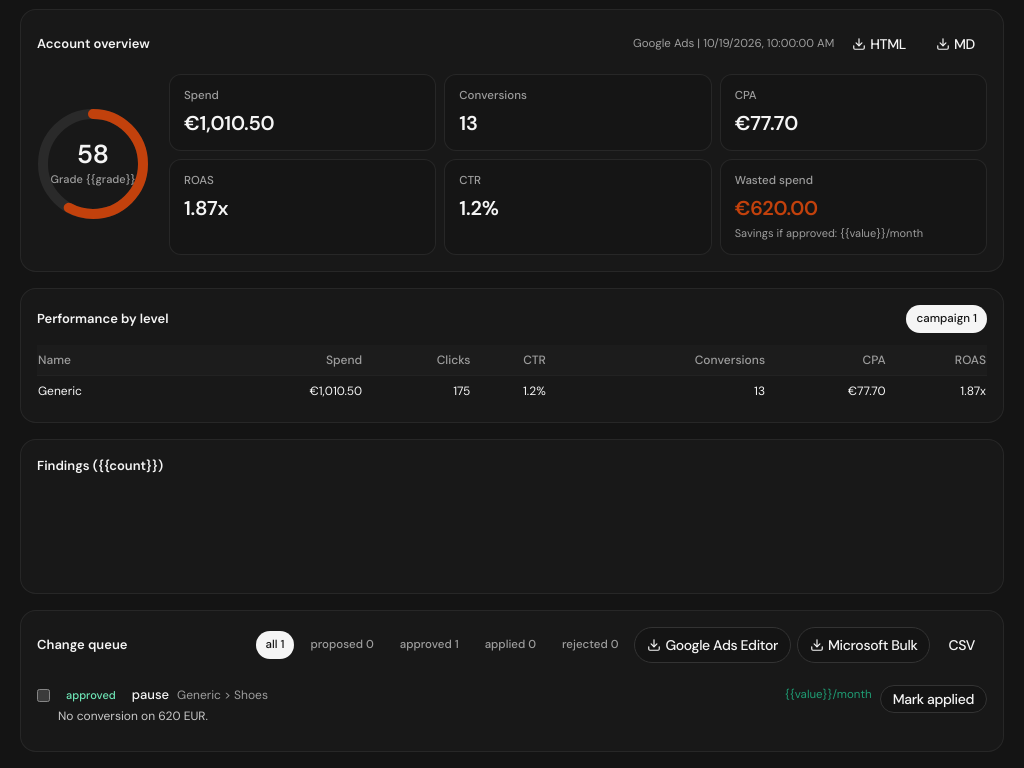
it: AdsDesk › shows KPIs, findings and requires a read-back to mark a change applied
(page scrolled)
Expected: the picture named "Account health: 58" is shown, [37,108,149,220]
Click the button "Mark applied" at {"x": 933, "y": 698}, box [880,684,987,712]
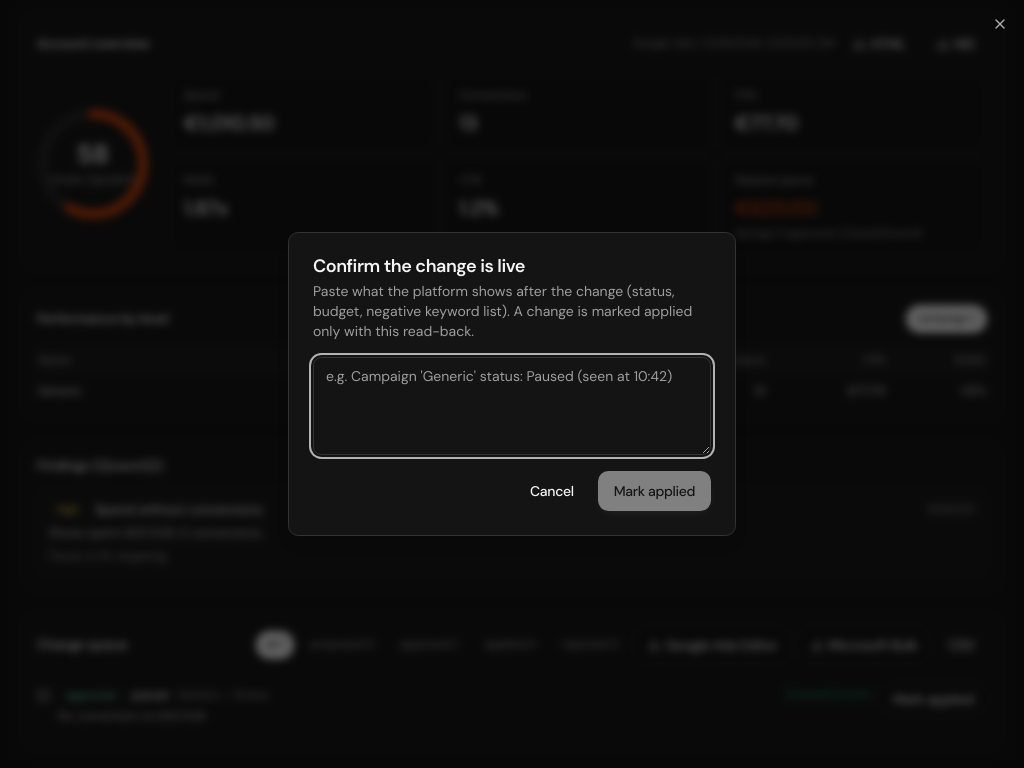
Expected: the button "Mark applied" is disabled, [598,471,711,511]
Type "Paused at 10:42" into the text box with placeholder "e.g. Campaign 'Generic' status: Paused (seen at 10:42)" at {"x": 512, "y": 406}, box [313,357,711,455]
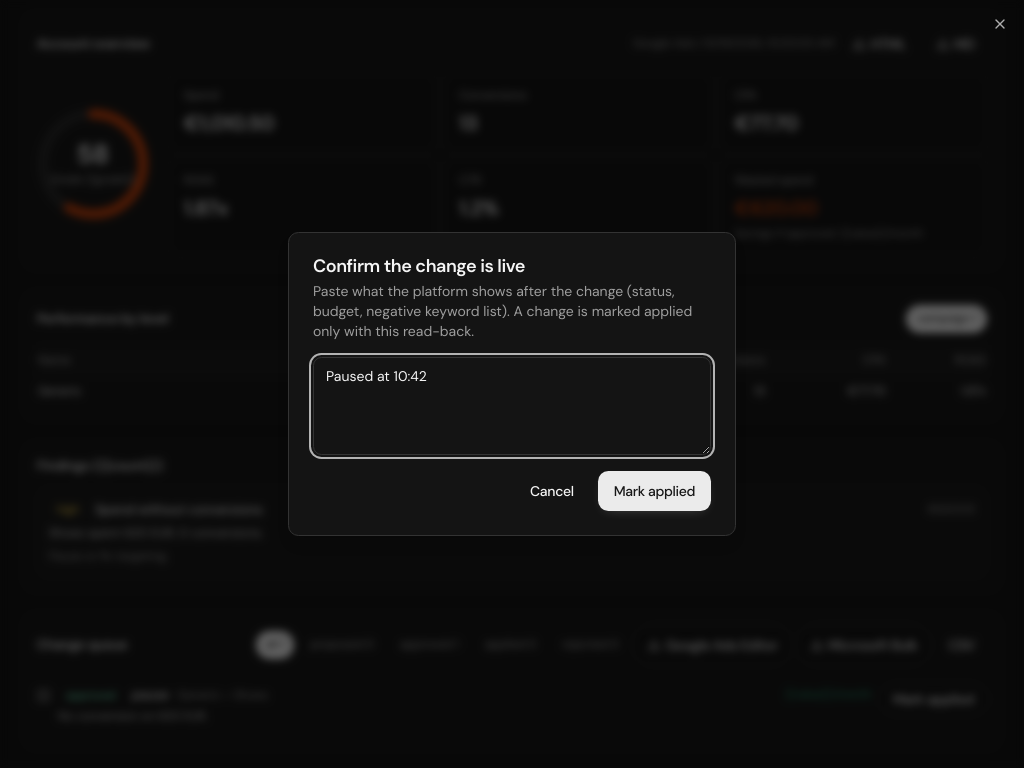
Click the button "Mark applied" at {"x": 654, "y": 491}, box [598,471,711,511]
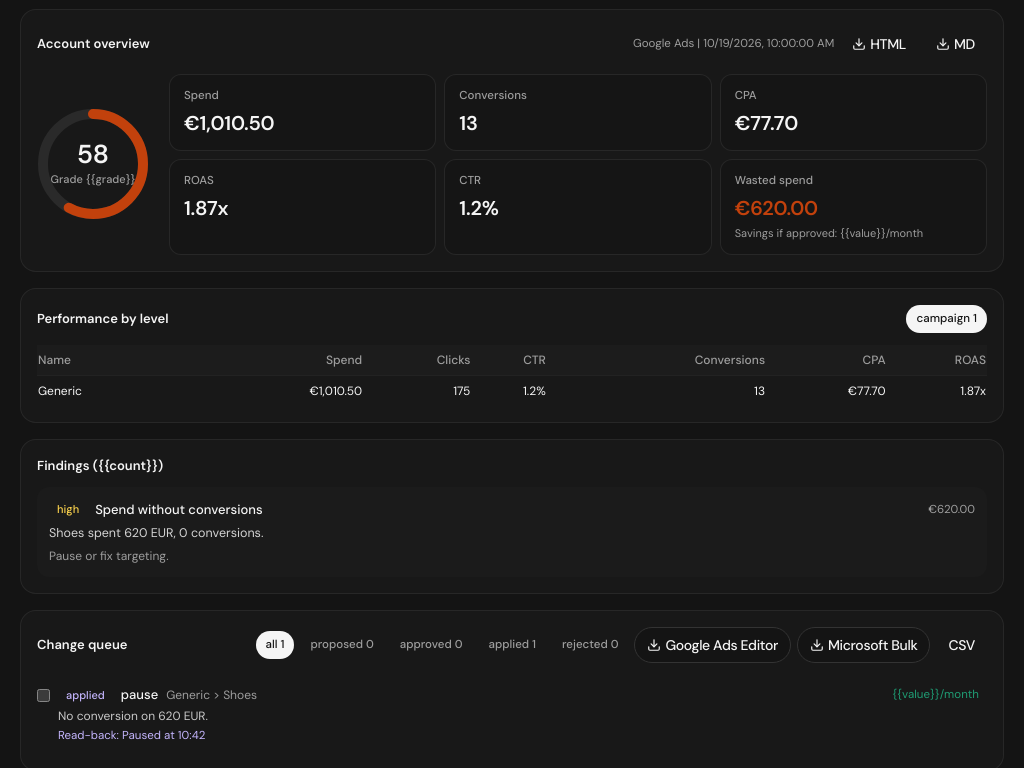
Expected: the text "Read-back: Paused at 10:42" is shown, [58,728,205,743]
